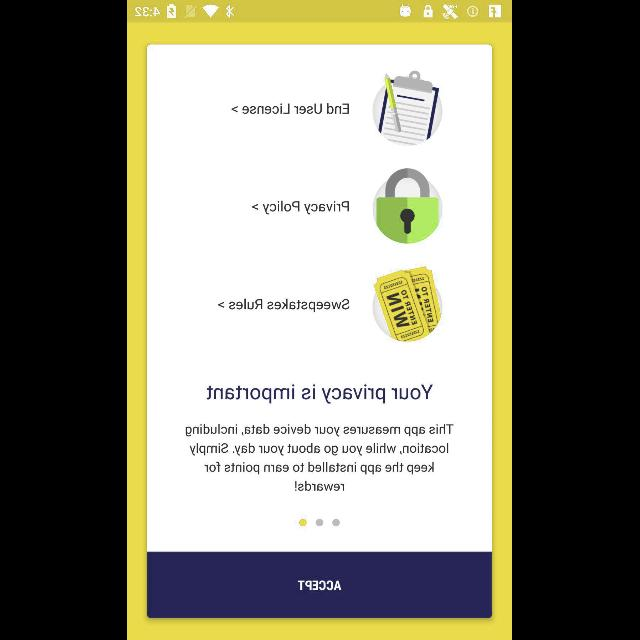image: (373, 168, 443, 244), (373, 266, 443, 342), (373, 72, 443, 146)
pageindicator: (299, 518, 341, 526)
panel: (148, 45, 492, 618)
text: (186, 423, 454, 491), (208, 384, 434, 404), (220, 298, 350, 312), (252, 200, 350, 216), (232, 103, 350, 115)
textbutton: (148, 552, 492, 618)
uppertaskbar: (128, 1, 512, 23)
